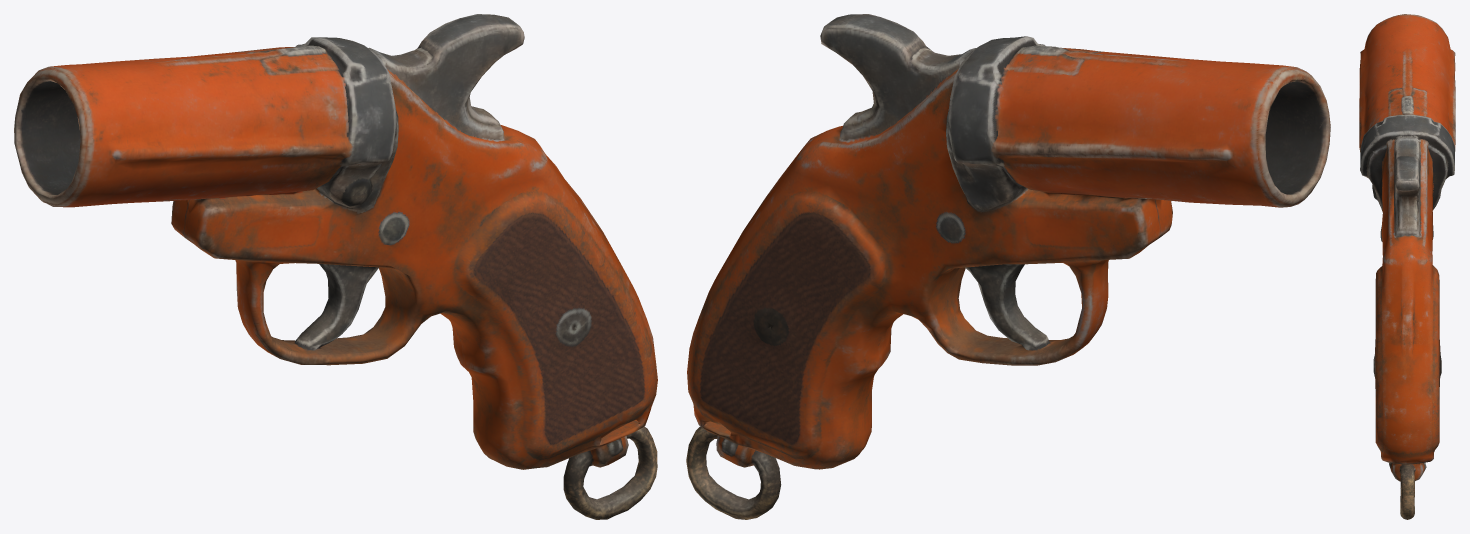
The model's file is flare-pistol.glb.
3 views of the same model, side by side, from view 1: azimuth 30°, elevation 25°; view 2: azimuth 150°, elevation 25°; view 3: azimuth 270°, elevation 25° (orthographic). The views are drawn at different scales.
Size of the model in its own units: 1 by 0.9002 by 0.2281.
Materials: 1 (1 with a texture image).
